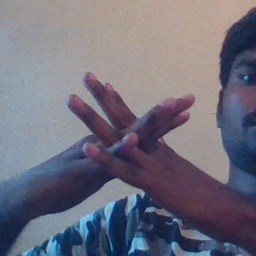W: (50, 61, 207, 216)
